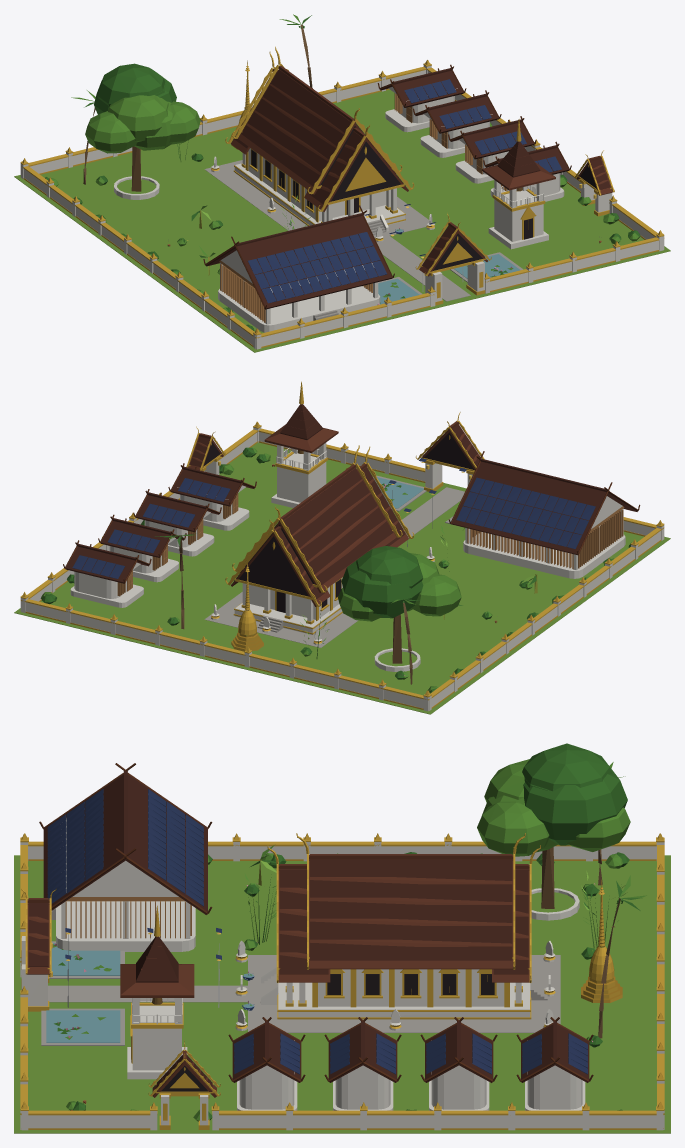
Rendered from temple_2.glb.
3 views of the same model, one above another, from view 1: azimuth 30°, elevation 25°; view 2: azimuth 150°, elevation 25°; view 3: azimuth 270°, elevation 25° (orthographic). The views are drawn at different scales.
Visible parts, largest first — view 1: body; view 2: body; view 3: body.
Boxes of the visible parts, left/top/right/bottom form: body: left=14, top=14, right=670, bottom=352; body: left=14, top=381, right=670, bottom=714; body: left=14, top=743, right=670, bottom=1133.
Bounding box in the file's own units: 47.9 × 13.21 × 47.9.
